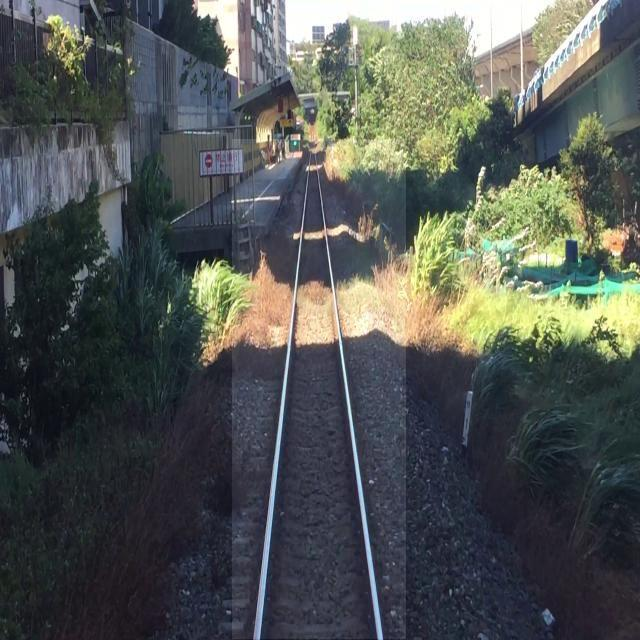rail: (233, 140, 407, 640)
